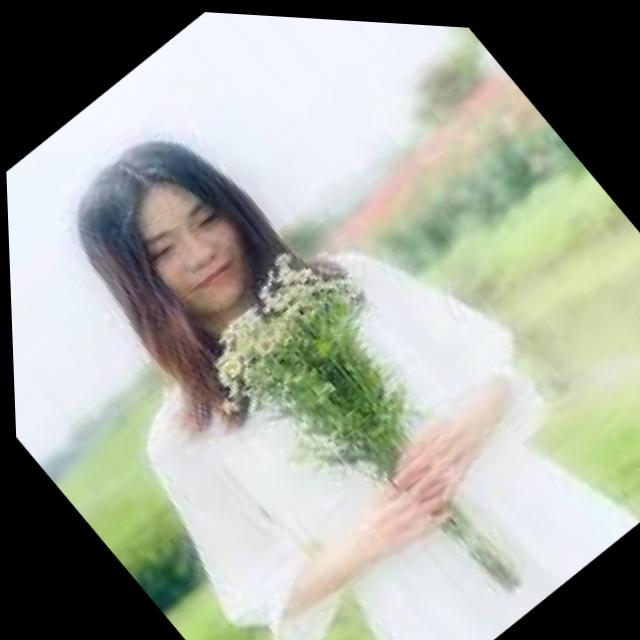Flower: (188, 243, 387, 446)
